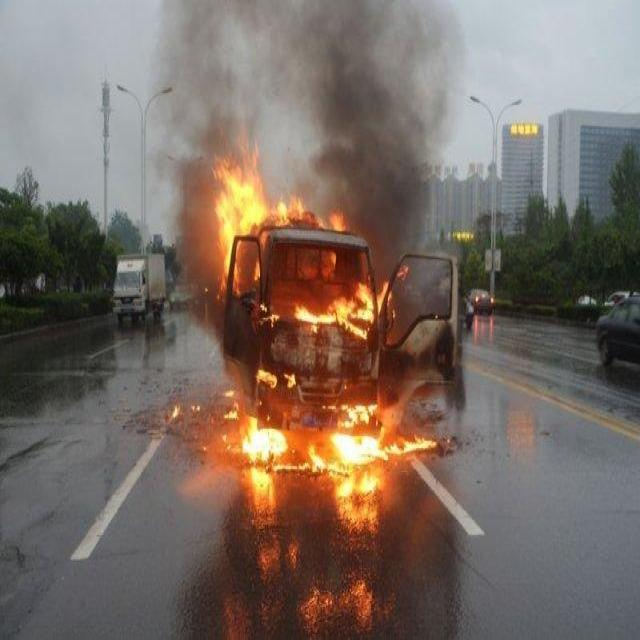Fire: (213, 141, 409, 339), (222, 369, 440, 472)
Smoke: (151, 2, 467, 138), (332, 150, 430, 268)
